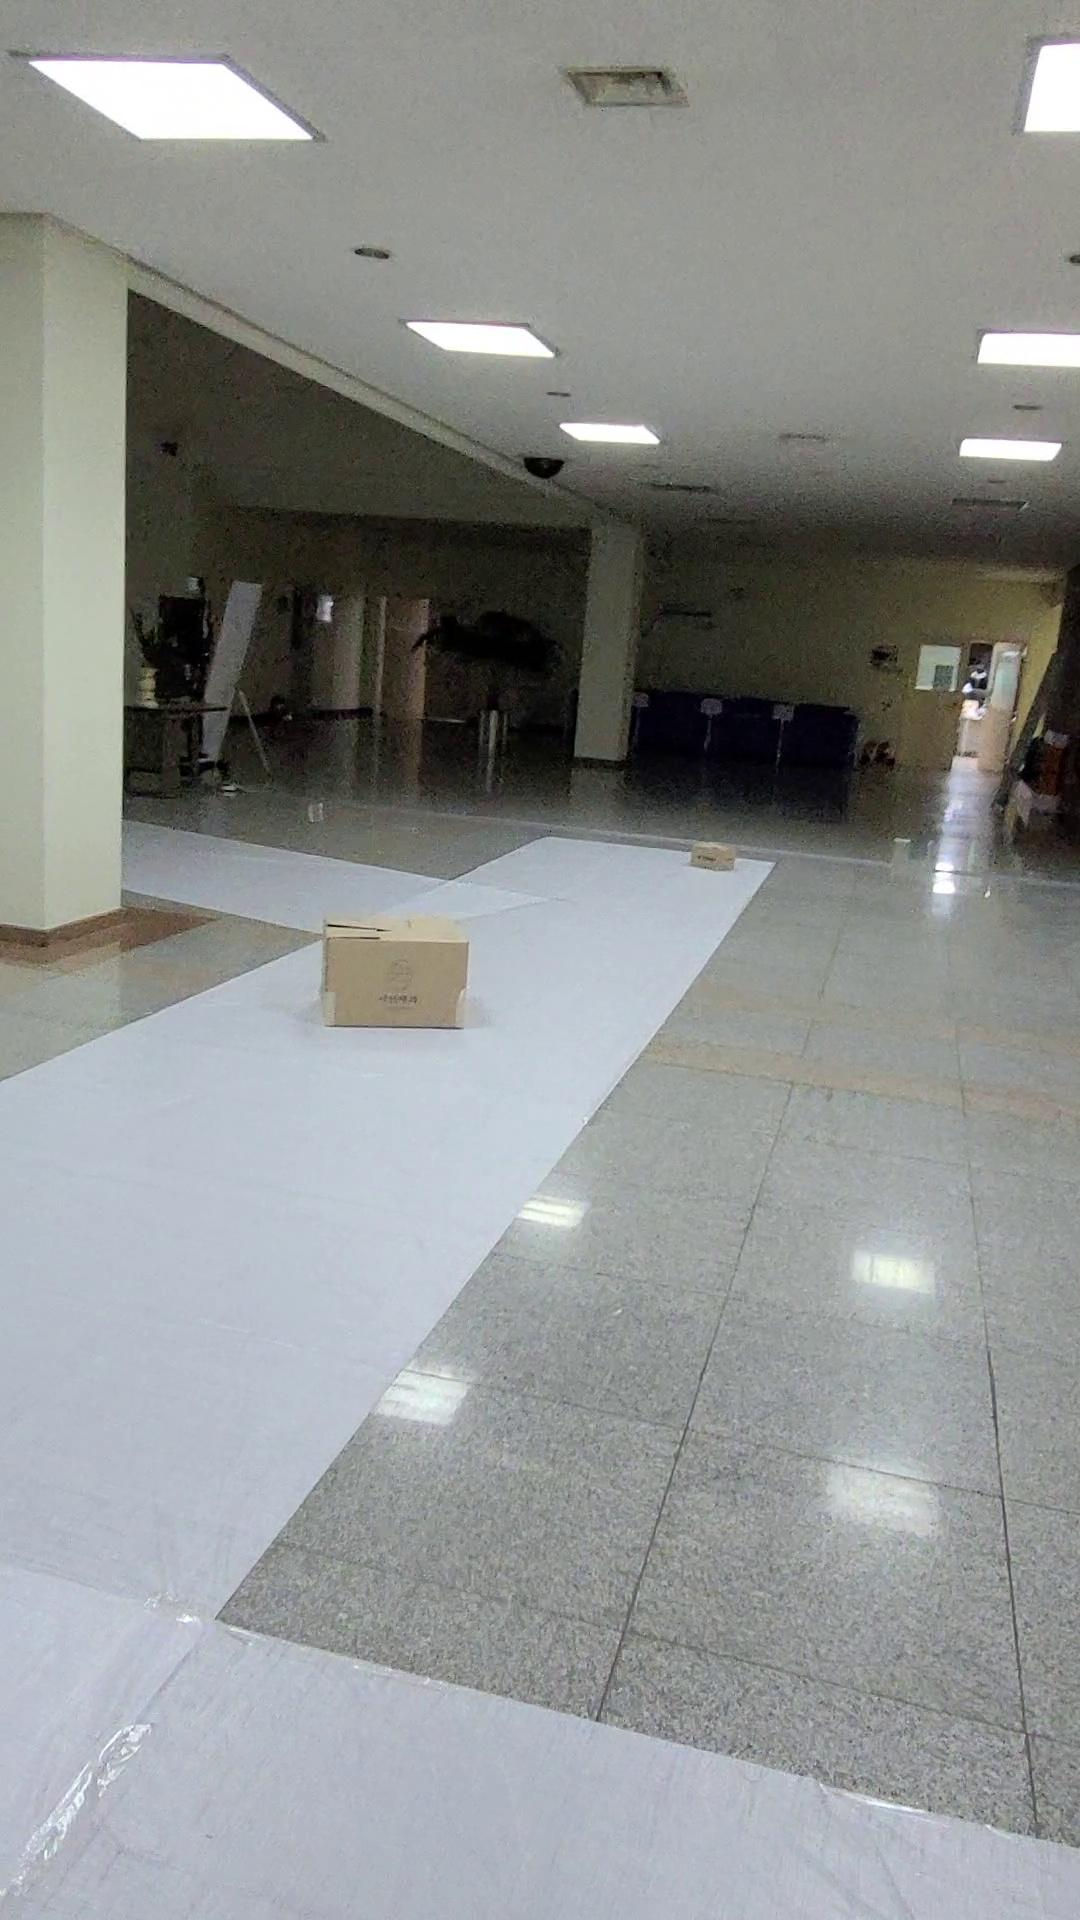Box: (291, 880, 485, 1075), (666, 829, 757, 910)
